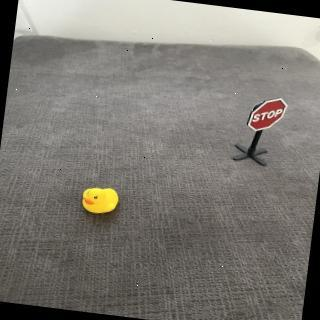duck_regular: (81, 185, 122, 219)
sign_stop: (247, 94, 291, 137)
